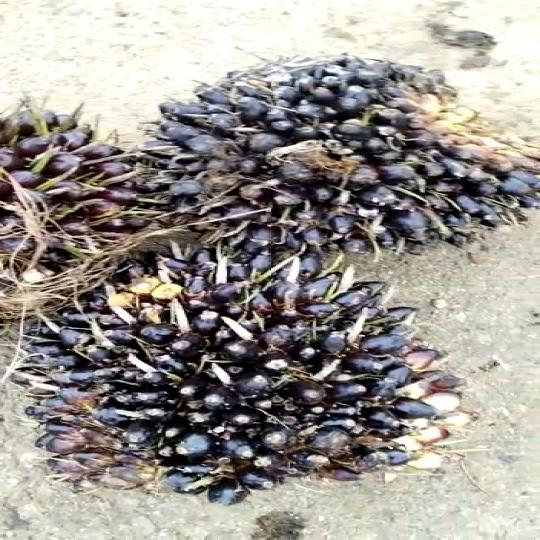mentah: (31, 256, 477, 498), (154, 50, 540, 260), (1, 96, 176, 318)
